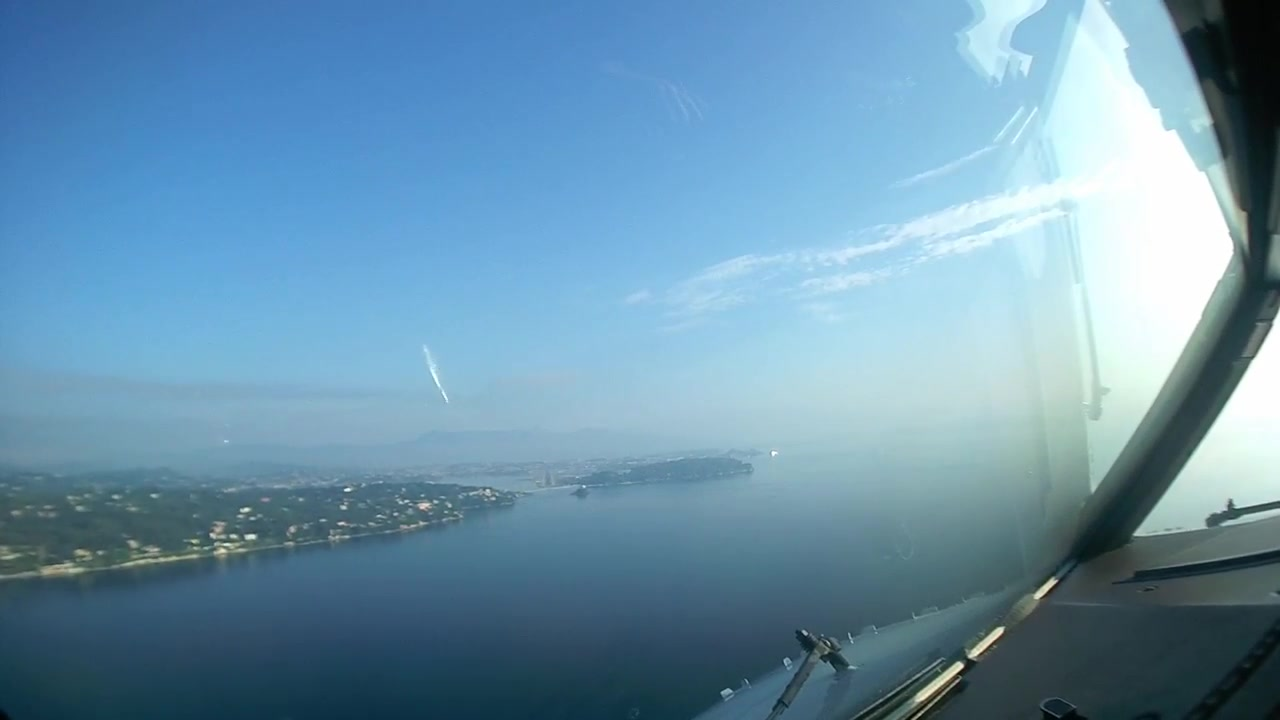runway: (541, 469, 556, 490)
